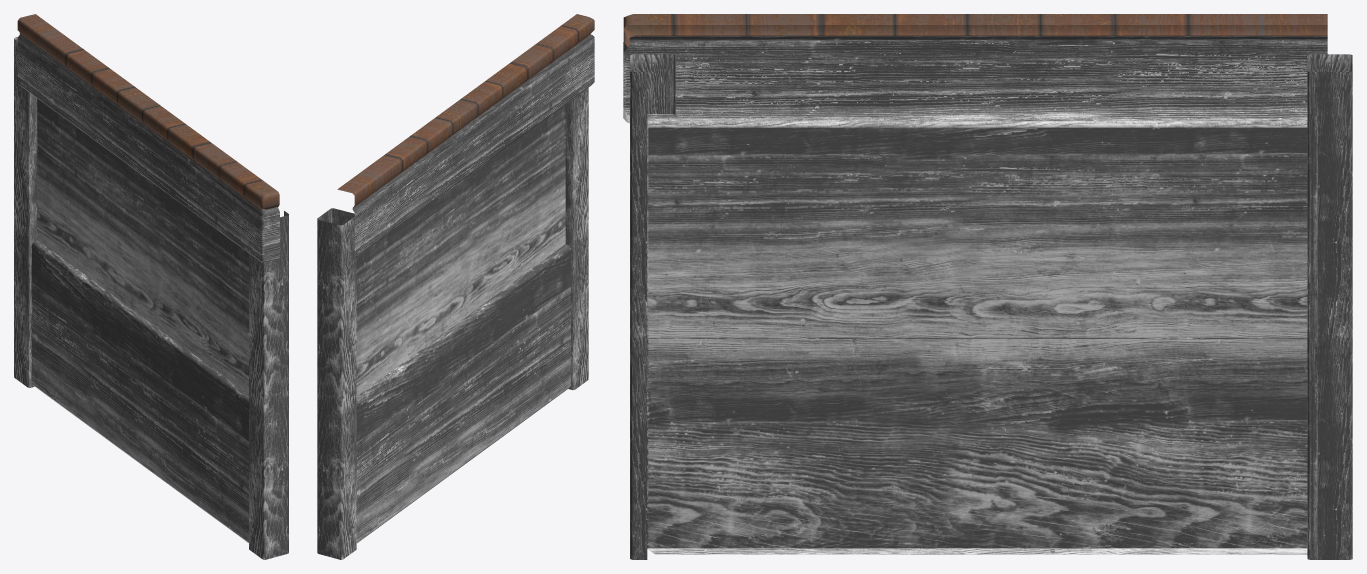
The model's file is SM_Base_Side_B1.fbx.
The picture shows the model from 3 angles, left to right: view 1: azimuth 30°, elevation 25°; view 2: azimuth 150°, elevation 25°; view 3: azimuth 270°, elevation 25°; orthographic projection. The views are drawn at different scales.
Visible parts, largest first — view 1: SM_Base_Side_B1; view 2: SM_Base_Side_B1; view 3: SM_Base_Side_B1.
Boxes of the visible parts, left/top/right/bottom form: SM_Base_Side_B1: left=14, top=14, right=288, bottom=559; SM_Base_Side_B1: left=317, top=14, right=594, bottom=559; SM_Base_Side_B1: left=623, top=14, right=1352, bottom=559.
Size of the model in its own units: 10.18 by 148 by 118.
Materials: 3 (3 with a texture image).
